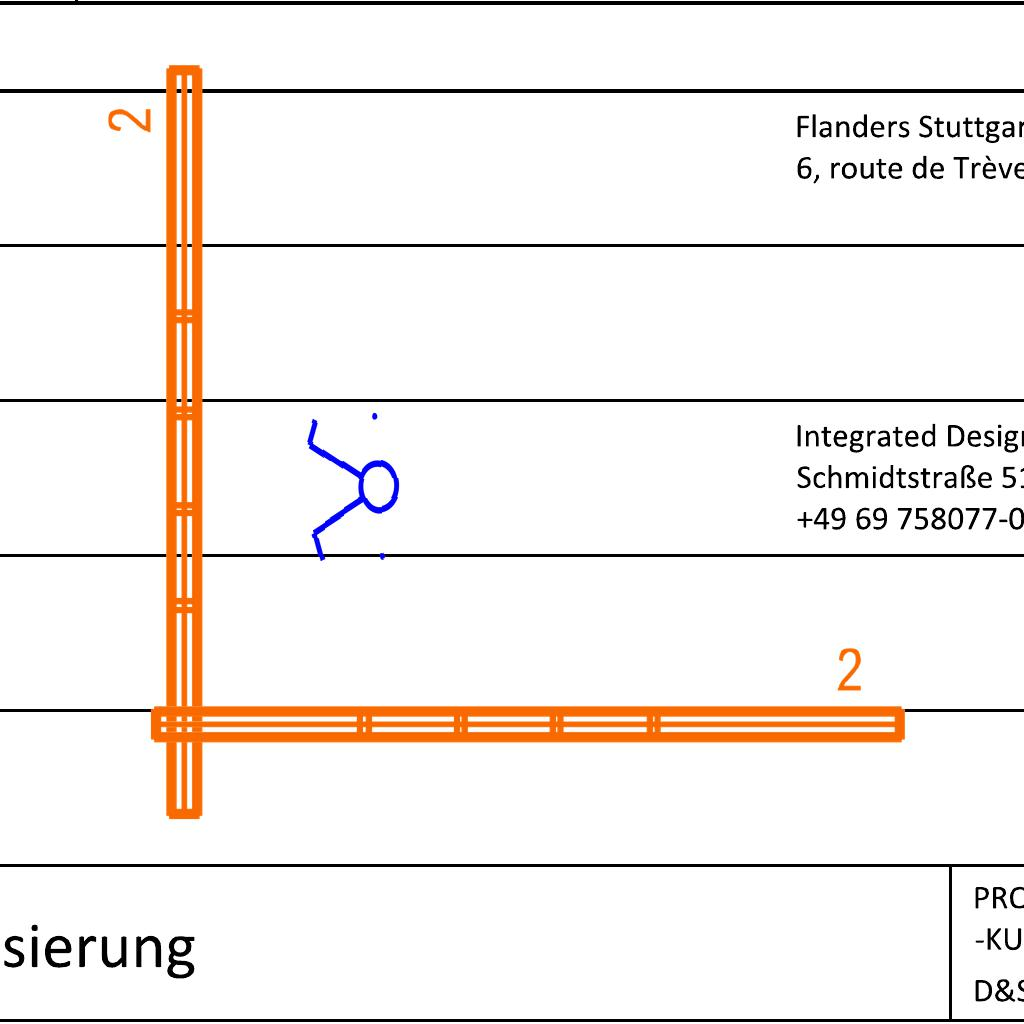Ambulanz_Pendelleuchte_LED: (103, 56, 215, 830), (140, 643, 914, 755)
Serienschalter: (300, 402, 406, 576)
